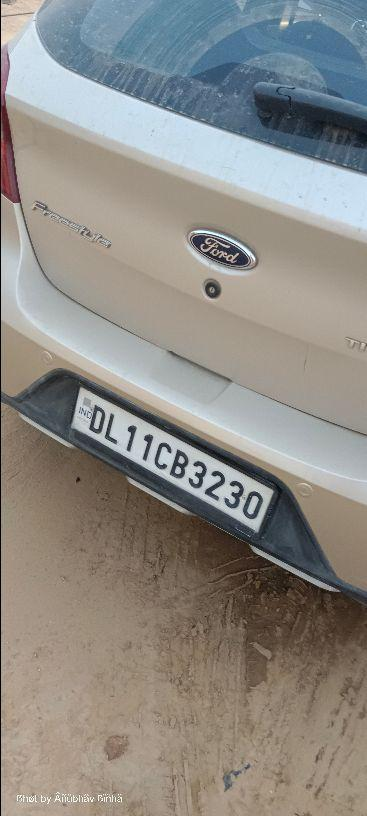license_plate: (3, 365, 359, 603), (67, 383, 280, 541)
